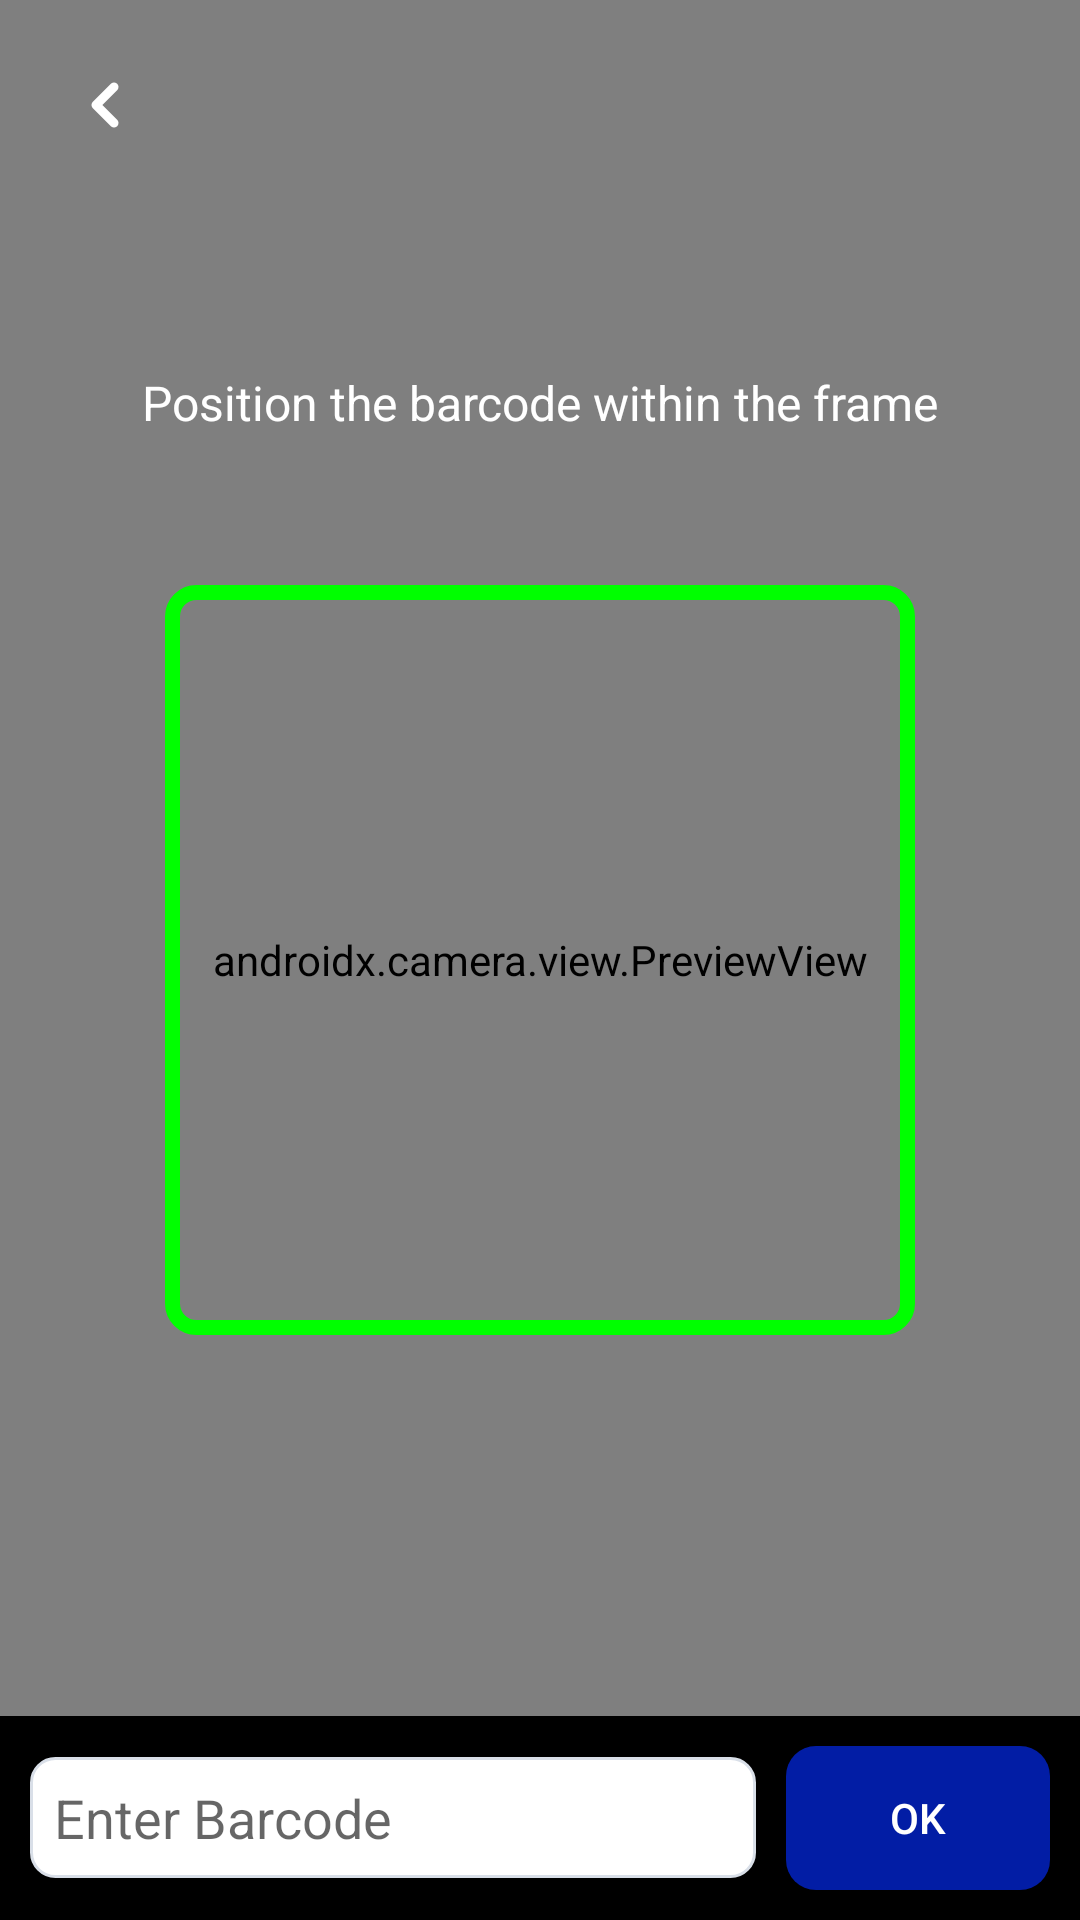

Screen size 1080 × 1920. Icon name, then its box in pixels as [x1, y1, x2, y2]:
Back: [91, 82, 119, 128]
